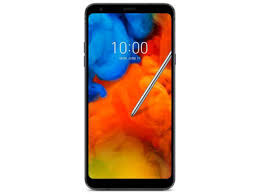lg: (82, 1, 175, 191)
